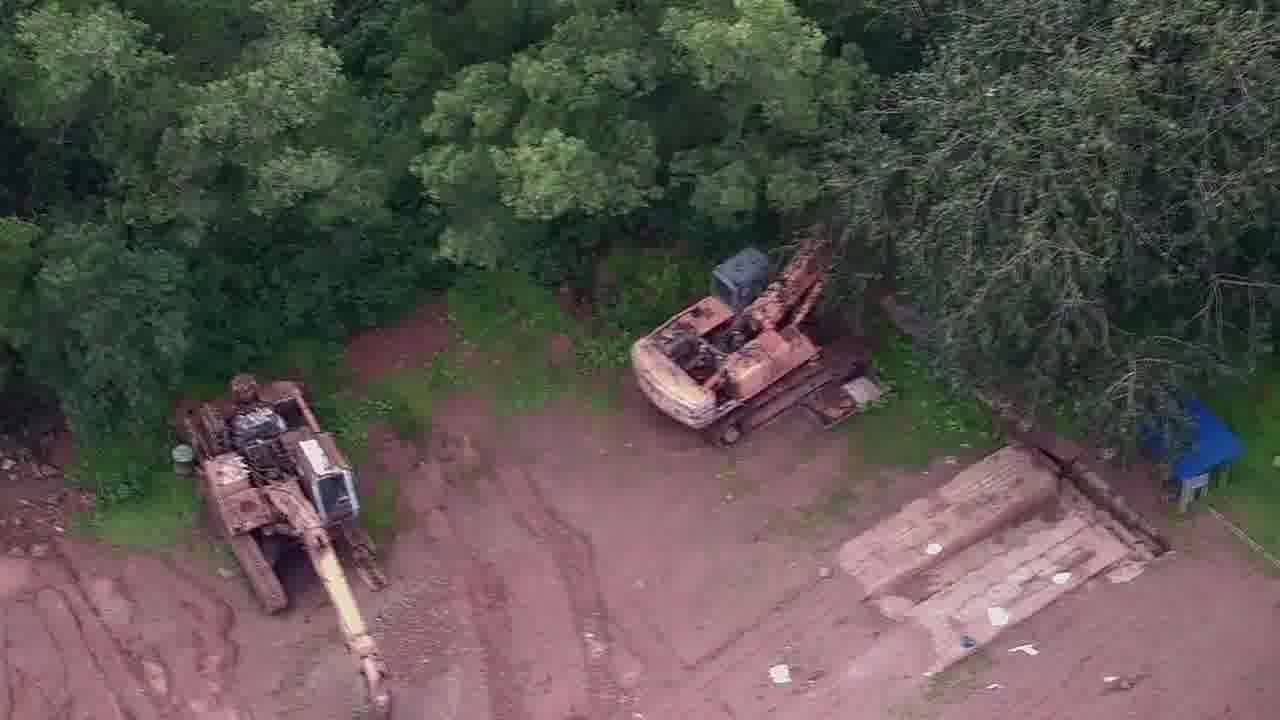HMV: (174, 366, 388, 702), (630, 231, 839, 442)
